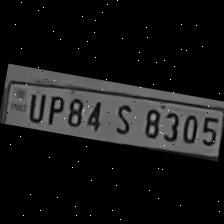0: (176, 109, 199, 145)
3: (158, 107, 181, 143)
4: (80, 95, 110, 133)
5: (196, 112, 221, 148)
8: (135, 103, 164, 140), (62, 94, 86, 130)
P: (40, 90, 65, 127)
S: (105, 98, 137, 136)
U: (22, 88, 46, 123)
